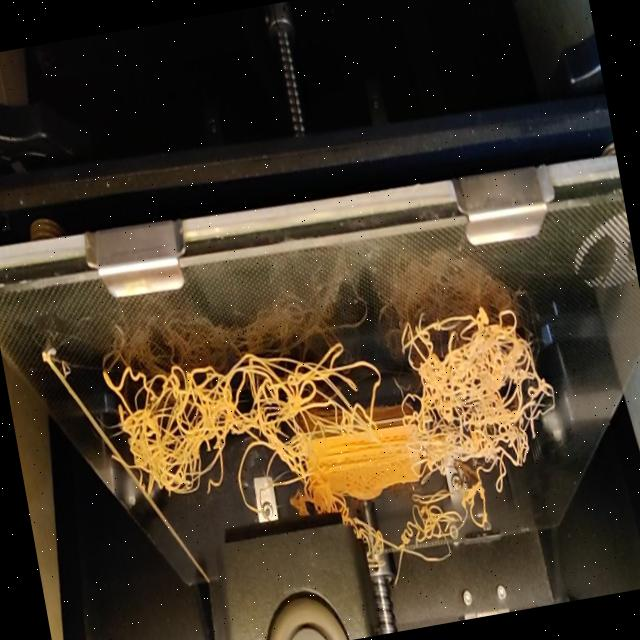spaghetti: (92, 287, 570, 550), (358, 482, 507, 592)
